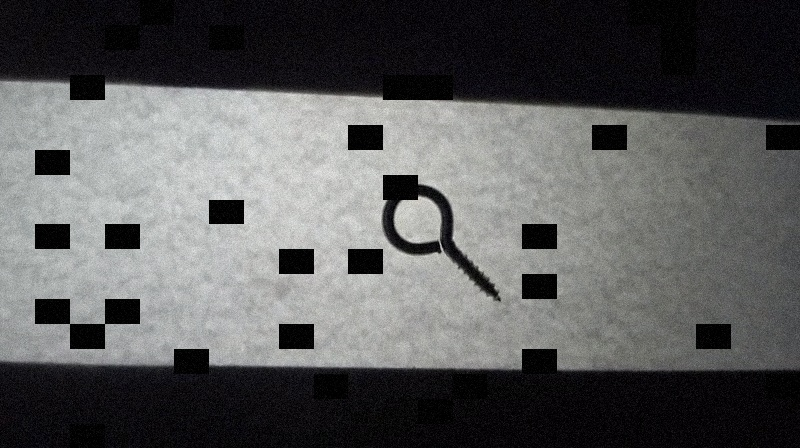O001: (379, 180, 506, 306)
